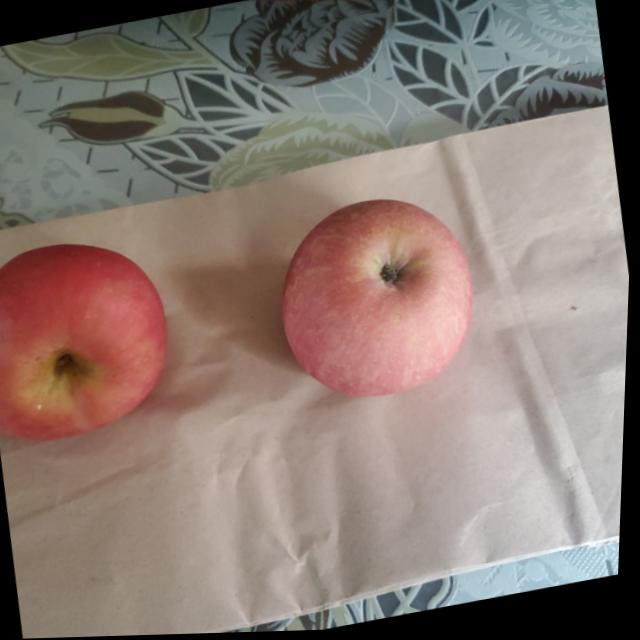apple: (270, 182, 495, 411), (0, 225, 187, 449)
